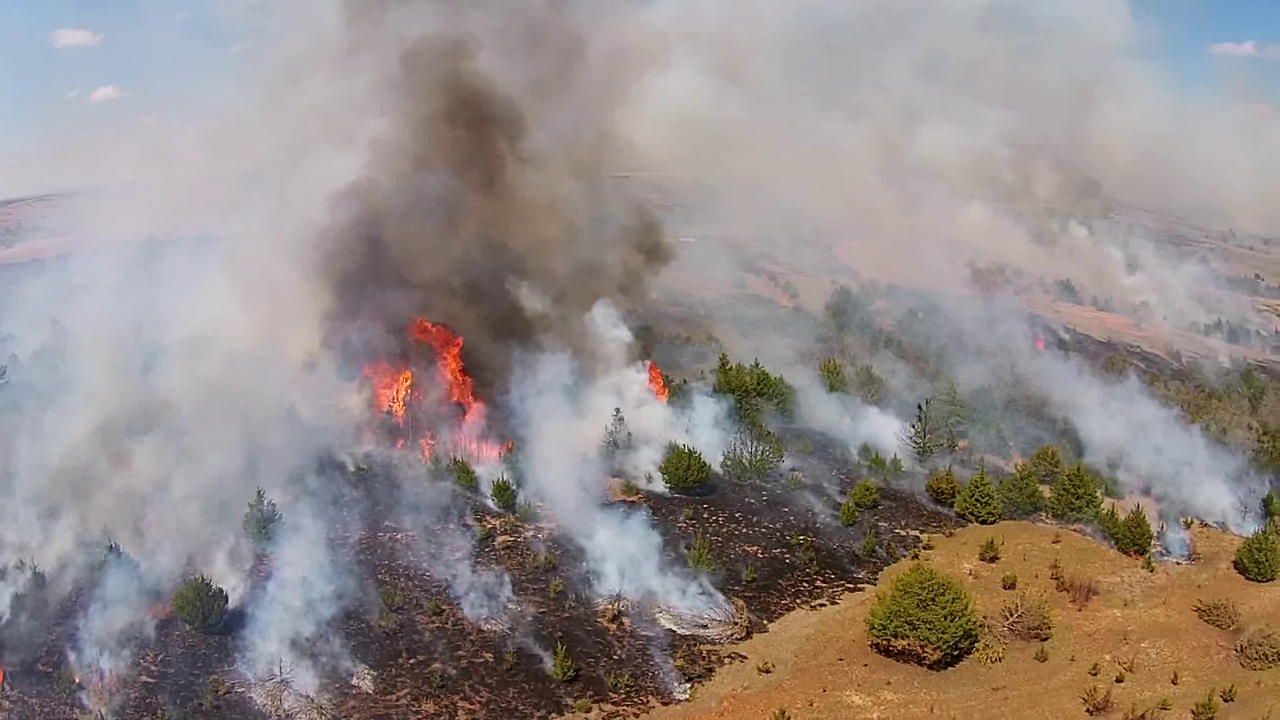forest_fire: (409, 319, 485, 431), (362, 362, 414, 424), (648, 361, 668, 400), (460, 440, 496, 456), (418, 432, 435, 460)
